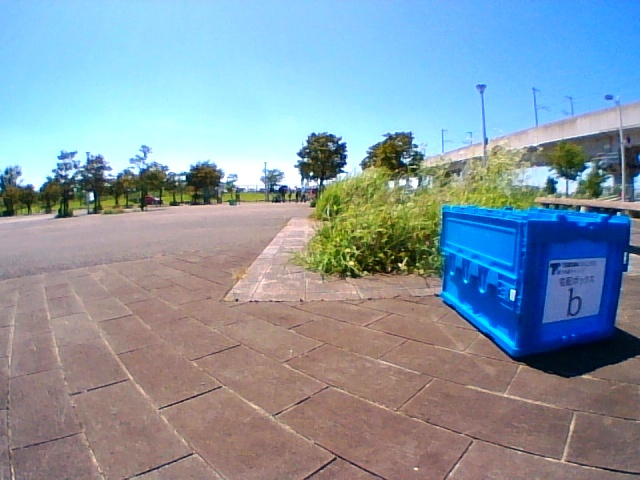blue_box: (476, 218, 615, 327)
tag_b: (559, 274, 596, 316)
